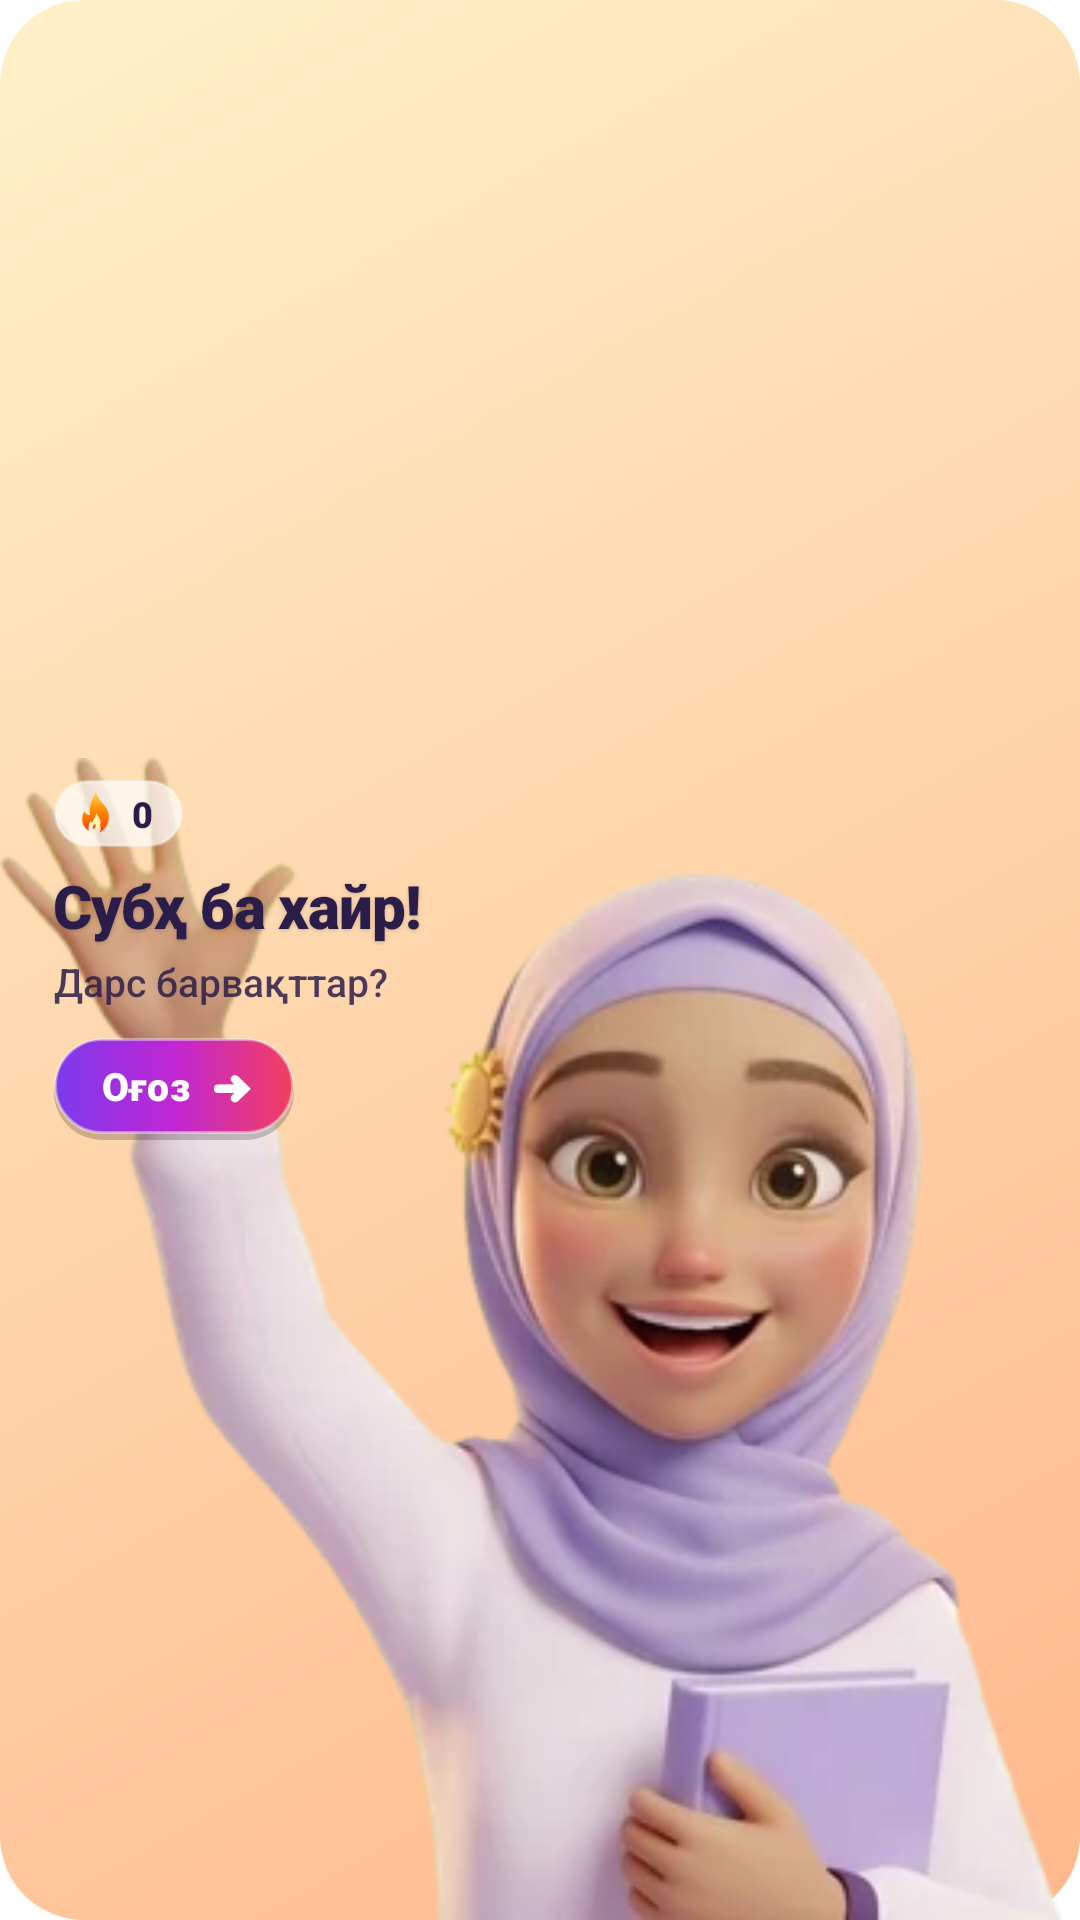

Where icons sit on this 1080px×1920px app screen, as box=[x1, y1, x2, y2]:
widget flame: box=[82, 789, 109, 837]
